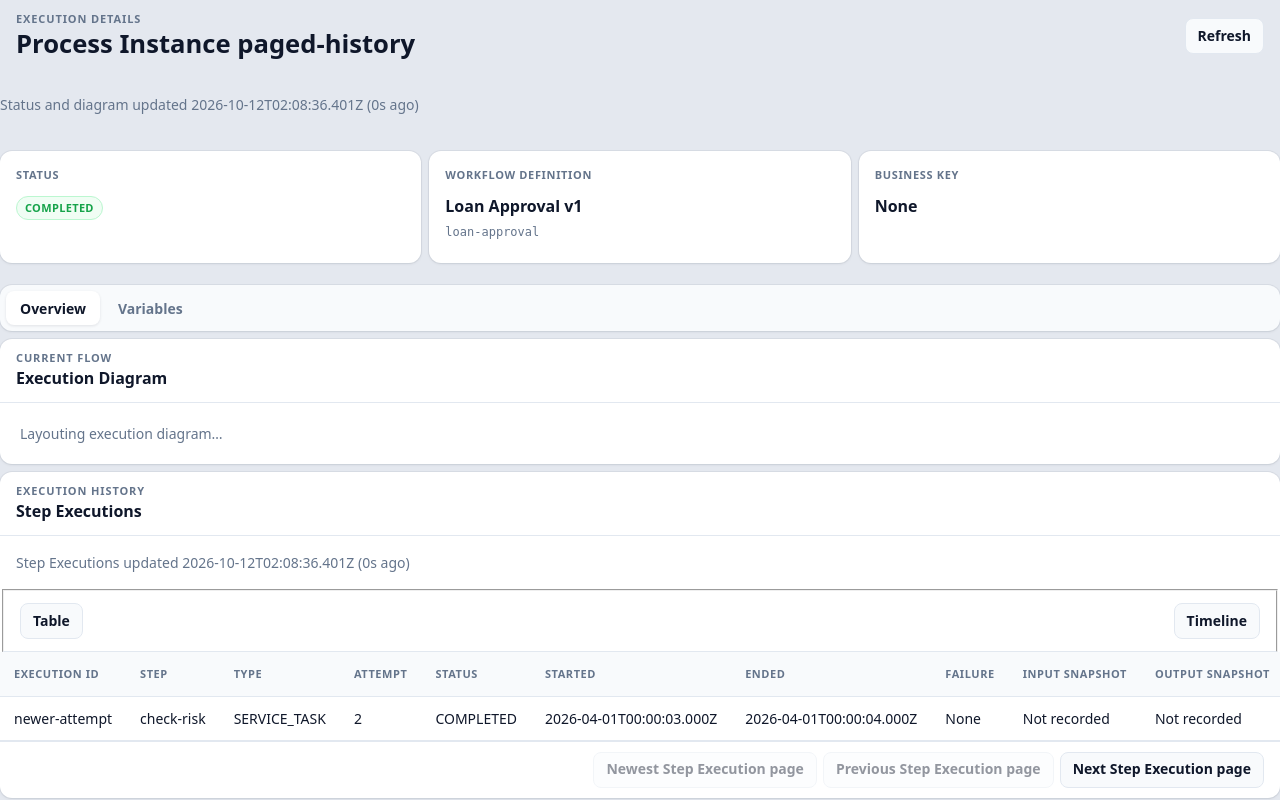
pages through Step Execution attempts with opaque cursors
Expected: the cell "newer-attempt" is shown, [0,696,126,740]
Click the button "Next Step Execution page": click(1162, 770) [1060,752,1264,788]
(page scrolled)
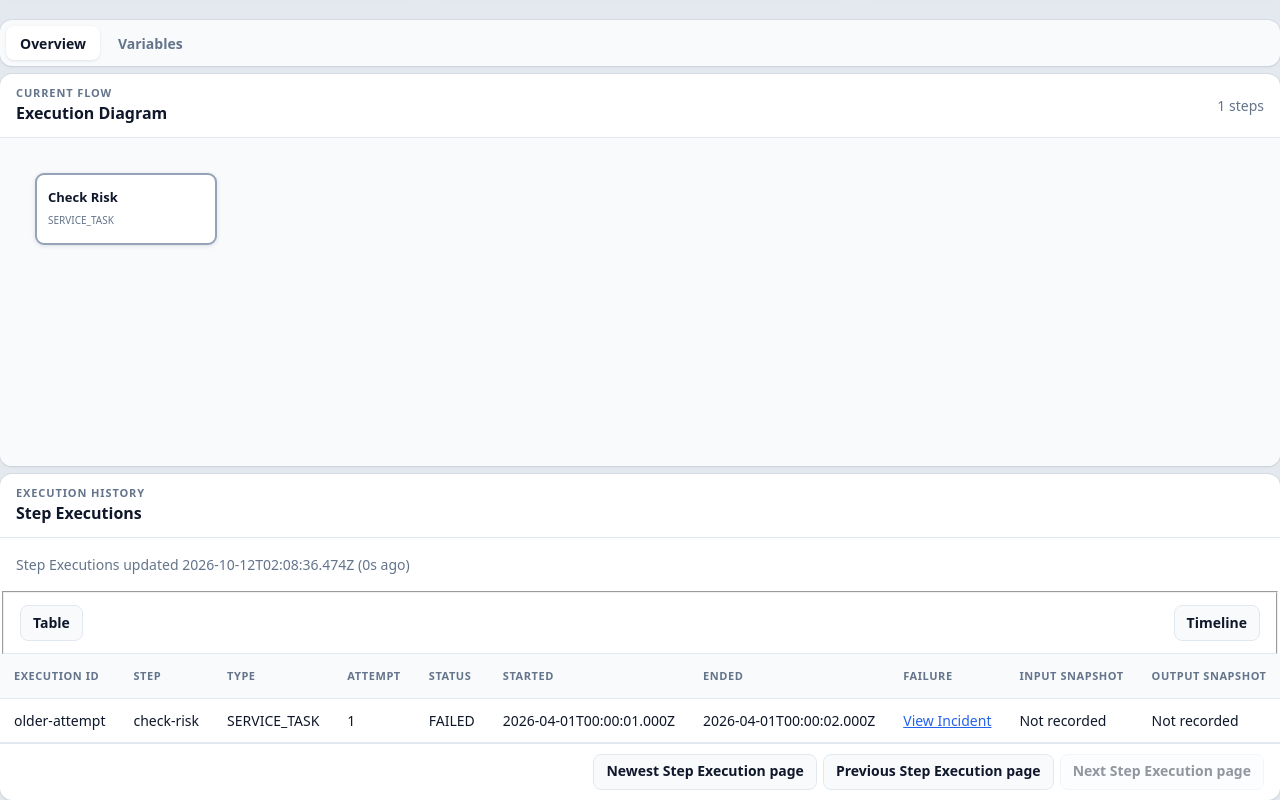
Expected: the cell "older-attempt" is shown, [0,698,120,742]
Click the button "Previous Step Execution page": click(938, 772) [823,754,1054,790]
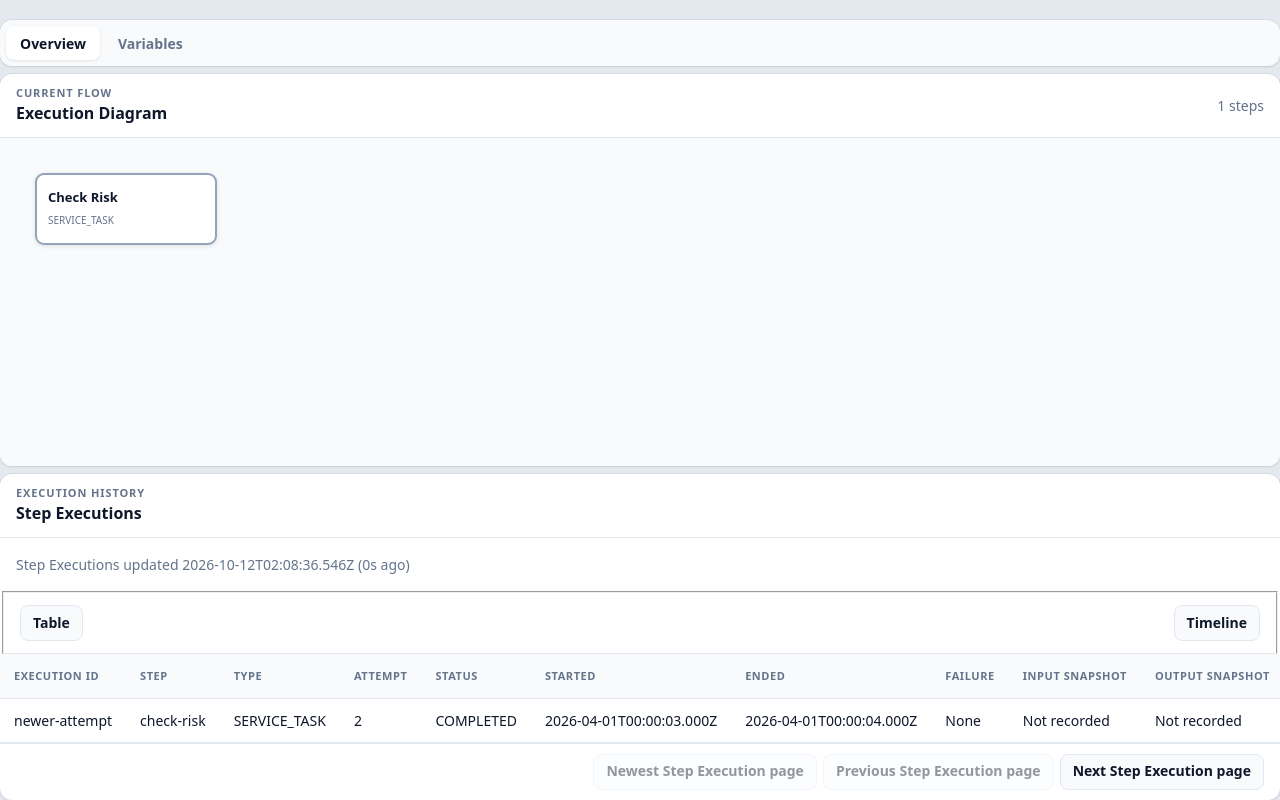
Expected: the cell "newer-attempt" is shown, [0,698,126,742]
